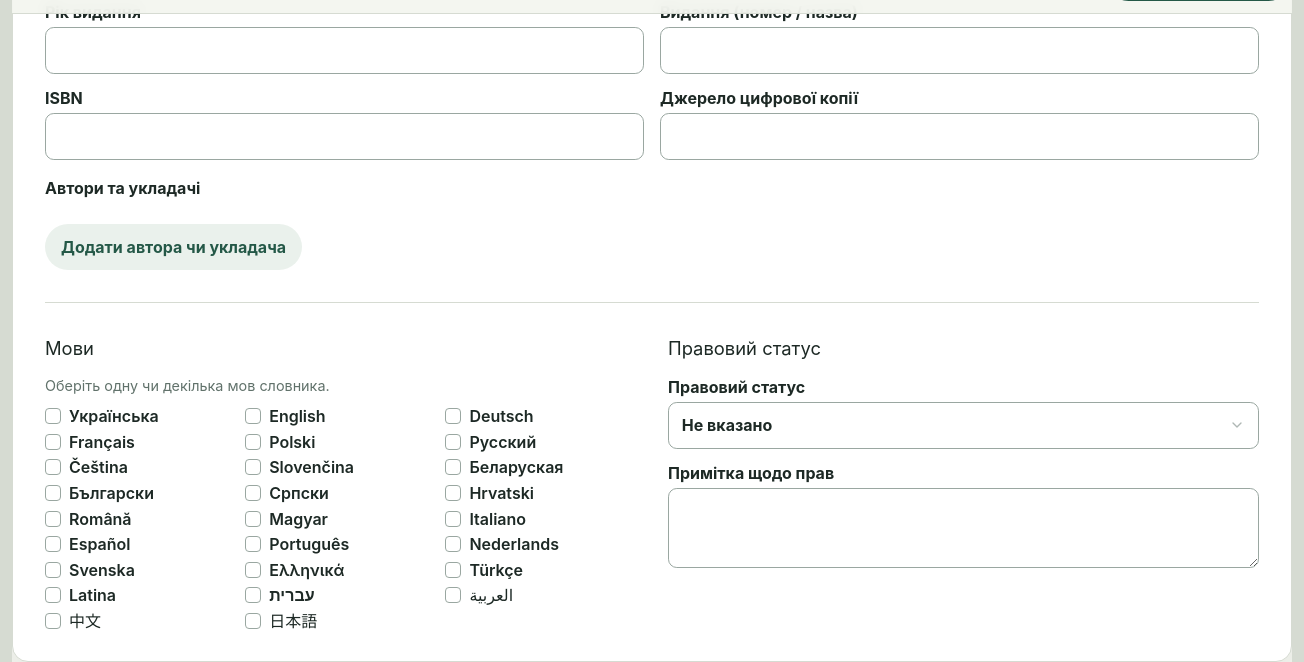
DictionaryMetadataForm › only shows conditional legal fields for the relevant status
This screenshot has width=1304, height=662.
(page scrolled)
Expected: the field labelled "Тип ліцензії" is not shown
Step 1. Click the dropdown named "Правовий статус" → click(727, 425), box 668,402 -> 1259,449
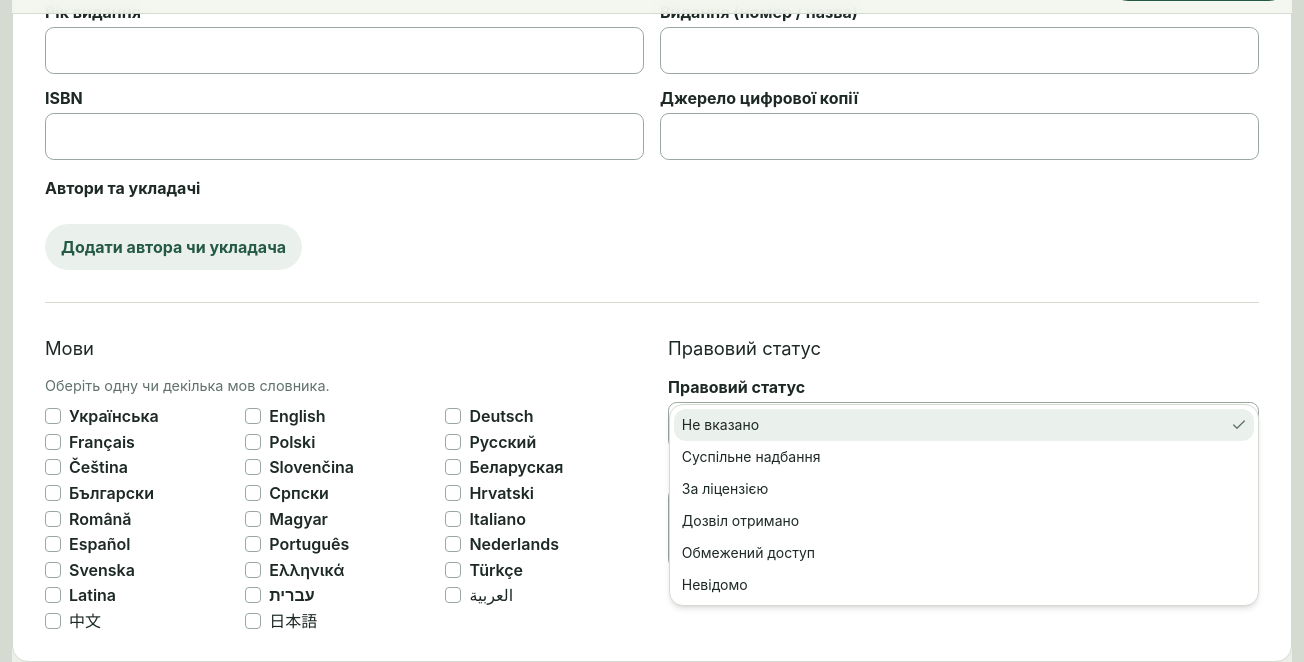
Step 2. Click the option "За ліцензією" → click(725, 489), box 682,480 -> 768,497
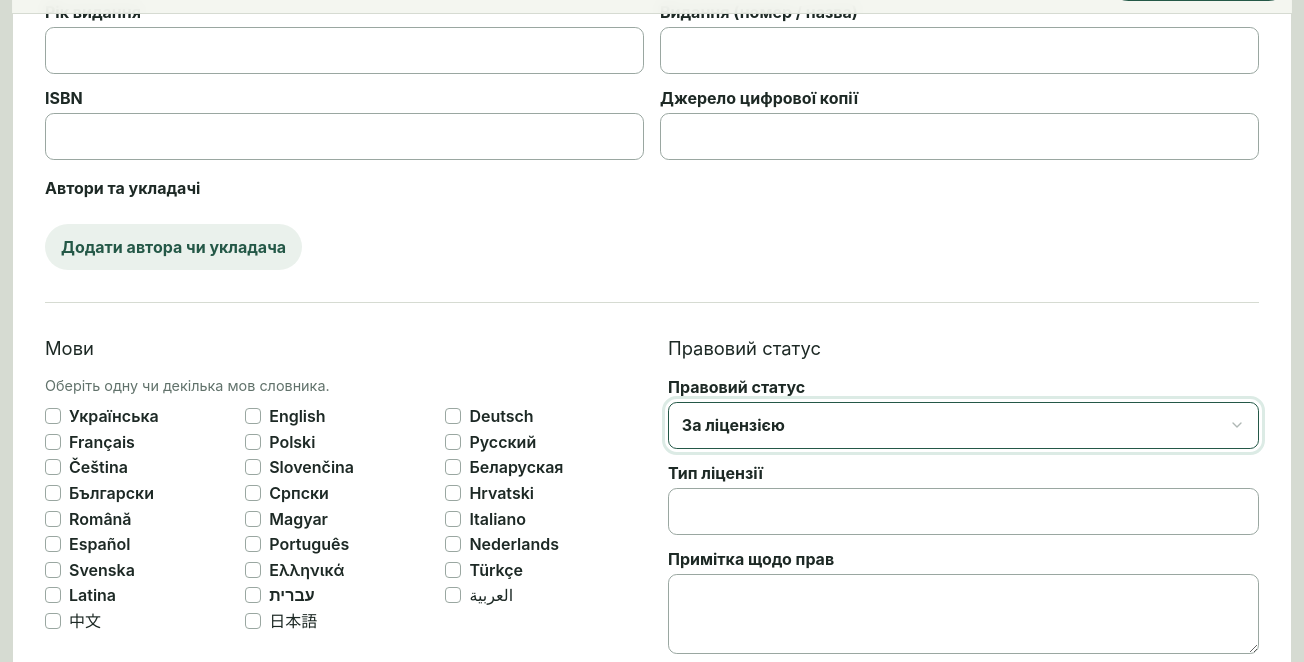
Expected: the field labelled "Тип ліцензії" is shown, 668,488 -> 1259,535
Step 3. Click the dropdown named "Правовий статус" → click(733, 425), box 668,402 -> 1259,449
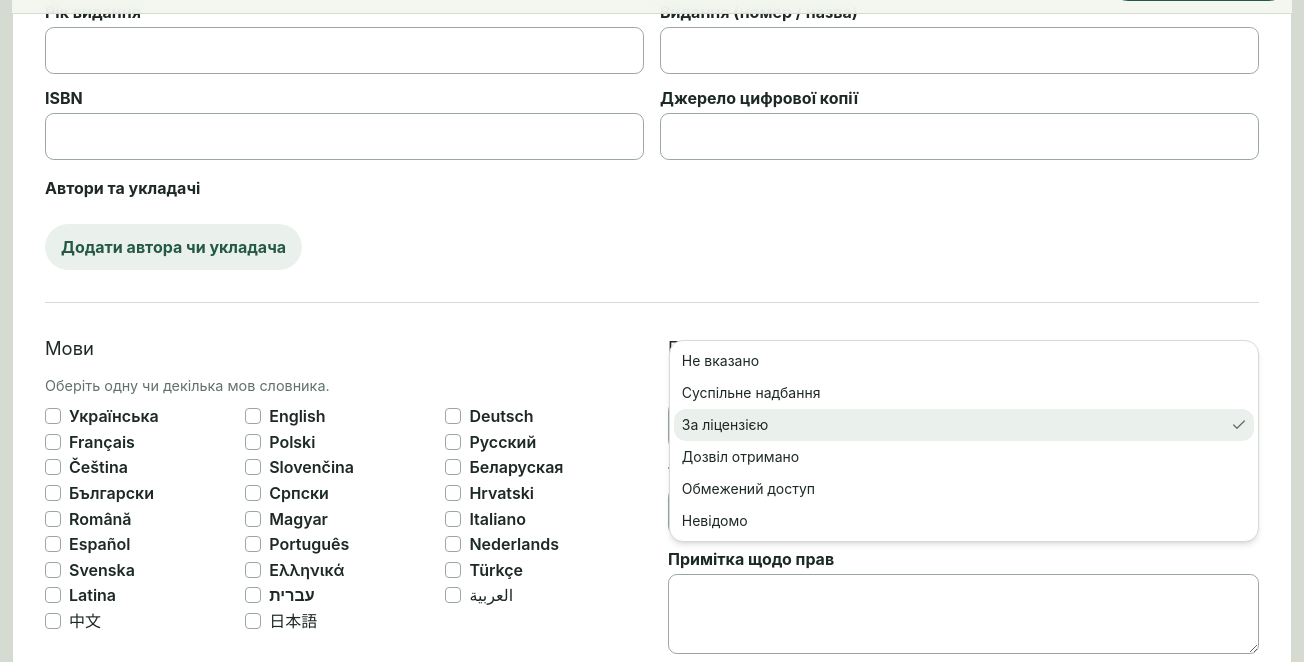
Step 4. Click the option "Дозвіл отримано" → click(740, 457), box 682,448 -> 799,465
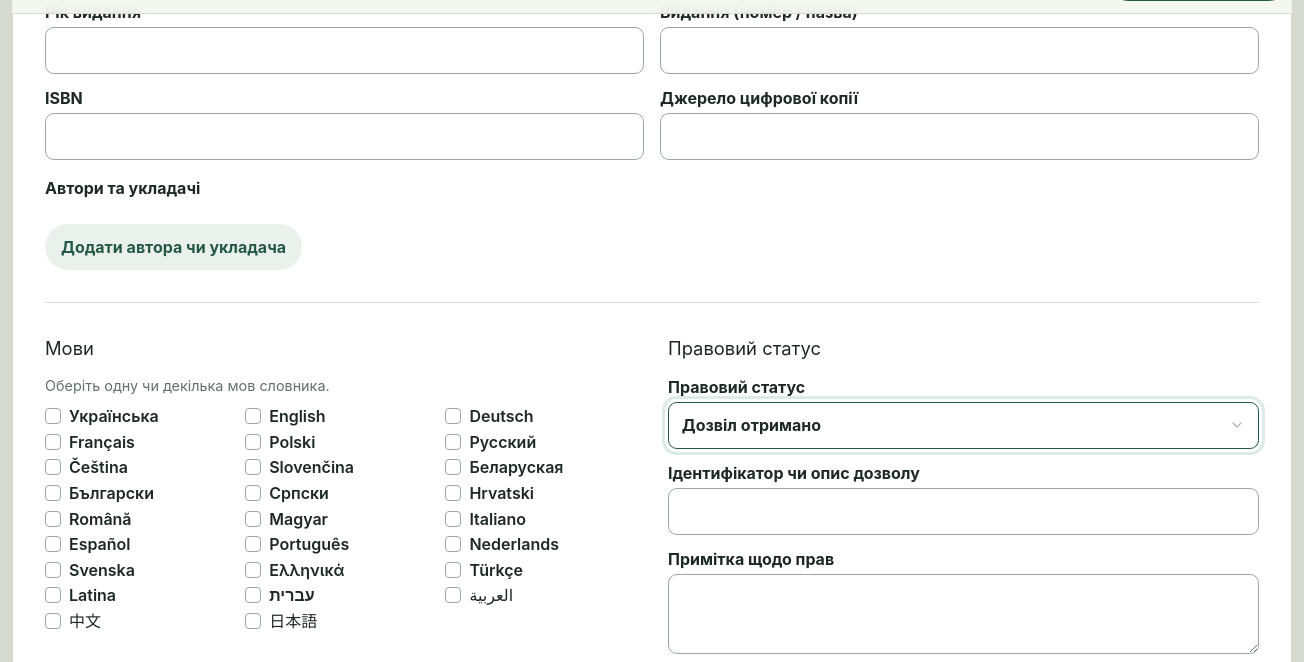
Expected: the label labelled "Тип ліцензії" is gone
Expected: the field labelled "Ідентифікатор чи опис дозволу" is shown, 668,488 -> 1259,535
